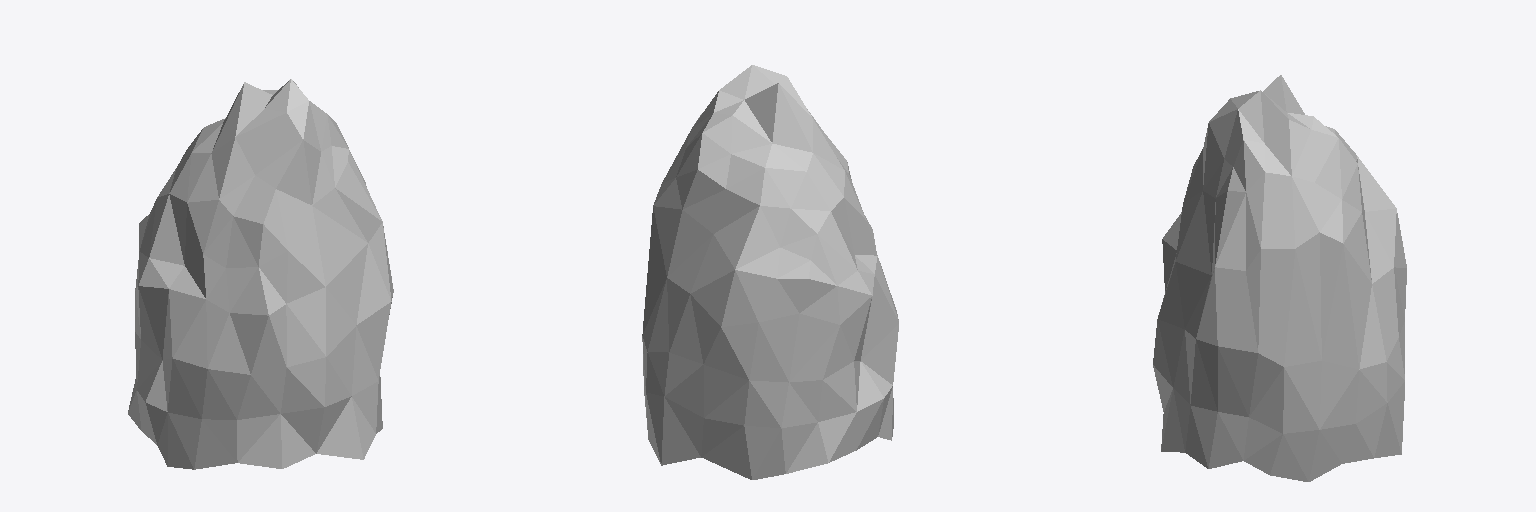
The model's file is wall3.obj.
3 views of the same model, side by side, from view 1: azimuth 30°, elevation 25°; view 2: azimuth 150°, elevation 25°; view 3: azimuth 270°, elevation 25° (orthographic).
Visible parts, largest first — view 1: Cube.004_Cube.005; view 2: Cube.004_Cube.005; view 3: Cube.004_Cube.005.
Part boxes in pixels (x1,y1,x2,y2): Cube.004_Cube.005: (128,79,393,469); Cube.004_Cube.005: (642,65,898,479); Cube.004_Cube.005: (1153,75,1406,481).
Size of the model in its own units: 10.7 by 16.04 by 10.38.